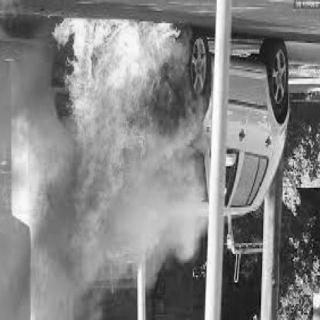Fire: (24, 12, 208, 286)
